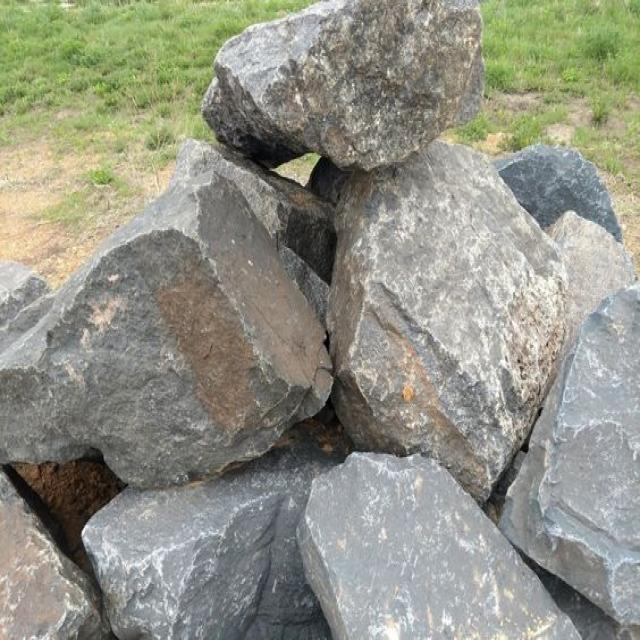grass: (446, 0, 639, 271)
rocks: (0, 0, 639, 638)
stone: (0, 142, 331, 487), (327, 142, 567, 499), (298, 454, 581, 638), (82, 439, 342, 638), (500, 283, 639, 629), (201, 0, 483, 169), (0, 468, 109, 638), (545, 210, 634, 353), (495, 145, 620, 241)
